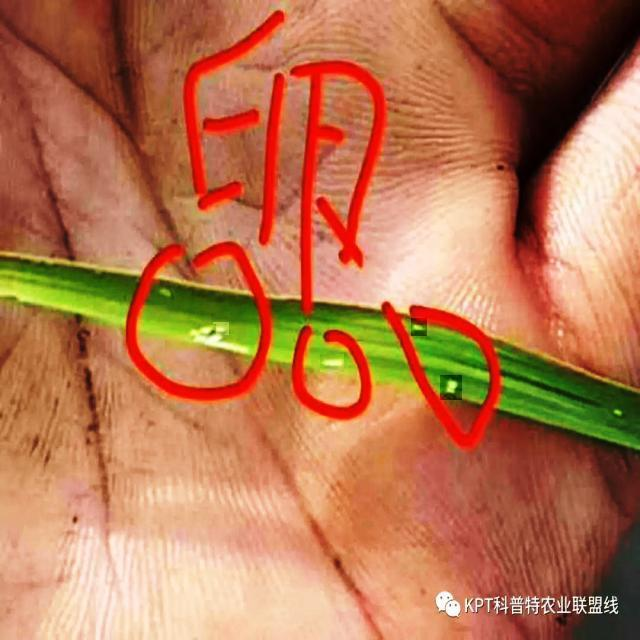whorl-maggot: (440, 375, 462, 400), (321, 354, 345, 372), (411, 318, 427, 336), (200, 324, 216, 339), (213, 322, 229, 335)
